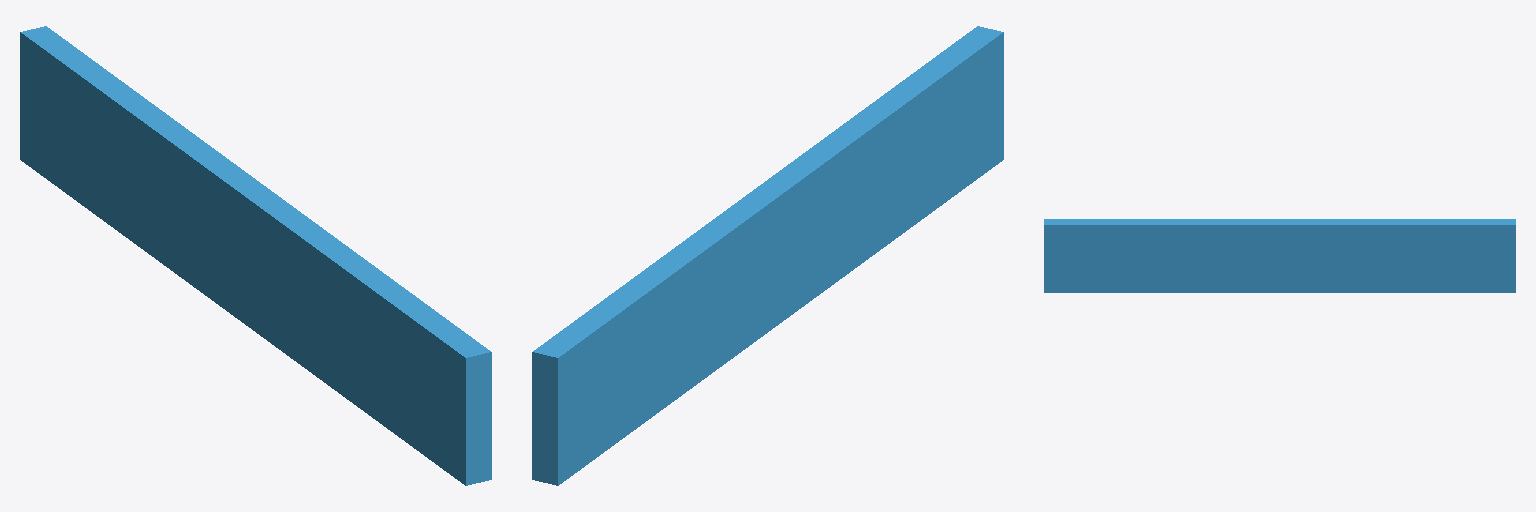
robot.urdf — box_48:
<?xml version="1.0" encoding="utf-8"?>    
    
    <robot name="box_48">
        <link name="box_48">    
            <fem>
                <origin rpy="0.0 0.0 0.0" xyz="0 0 0" />
                <density value="100" />
                <youngs value="10195"/>
                <poissons value="0.3" />
                <damping value="0.0" />
                <attachDistance value="0.01" />
                <tetmesh filename="[local-path]/sim_data/Custom/Custom_mesh/multi_boxes_10kPa/box_48.tet" />
                <scale value="0.5"/>
            </fem>
        </link>

        <link name="fix_frame">
            <visual>
                <origin xyz="-10.075465644361648 0.0 0.0"/>              
                <geometry>
                    <box size="0.005 0.15 0.023777518392924808"/>
                </geometry>
            </visual>
            <collision>
                <origin xyz="-0.07546564436164706 0.0 0.0"/>              
                <geometry>
                    <box size="0.005 0.15 0.023777518392924808"/>
                </geometry>
            </collision>
            <inertial>
                <mass value="500000"/>
                <inertia ixx="0.05" ixy="0.0" ixz="0.0" iyy="0.05" iyz="0.0" izz="0.05"/>
            </inertial>
        </link>
        
        <joint name = "attach" type = "fixed">
            <origin xyz = "0.0 0.0 0.0" rpy = "0 0 0"/>
            <parent link ="box_48"/>
            <child link = "fix_frame"/>
        </joint>  




    </robot>
    

--- What the picture shows (computed from the rendered views, not written in the file) ---
The picture shows the robot from 3 angles, left to right: view 1: azimuth 30°, elevation 25°; view 2: azimuth 150°, elevation 25°; view 3: azimuth 270°, elevation 25°; orthographic projection.
Model box_48 with 2 links and 1 joints (1 fixed), rooted at box_48, posed all joints at 0.
Links seen in each view (by area): view 1: fix_frame; view 2: fix_frame; view 3: fix_frame.
Boxes of the visible links, box(x1,y1,x2,y2) form: fix_frame: box(20, 26, 491, 485); fix_frame: box(532, 26, 1003, 485); fix_frame: box(1044, 219, 1515, 292).
Size in the robot's own frame: 0.005 by 0.15 by 0.0238 metres.
Geometry: primitives only (box / cylinder / sphere), no mesh files.